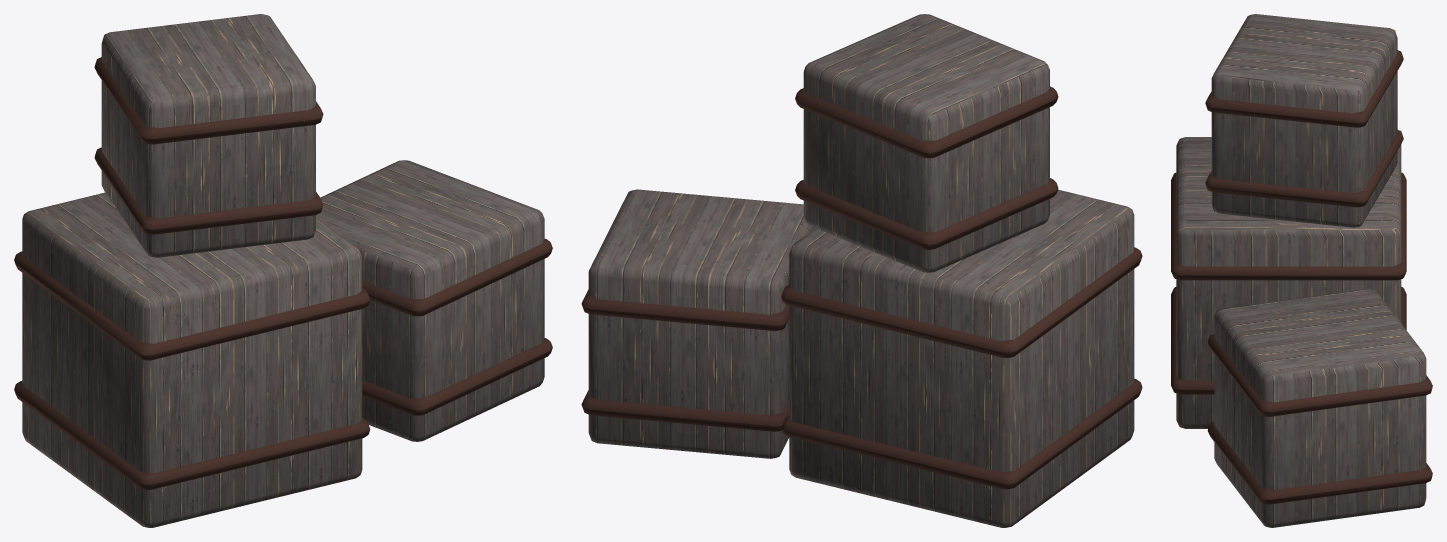
File: crate_stack.gltf
3 views of the same model, side by side, from view 1: azimuth 30°, elevation 25°; view 2: azimuth 150°, elevation 25°; view 3: azimuth 270°, elevation 25° (orthographic). The views are drawn at different scales.
Parts seen in each view (by area): view 1: crate_stack; view 2: crate_stack; view 3: crate_stack.
Boxes of the visible parts, left/top/right/bottom form: crate_stack: left=14, top=14, right=552, bottom=527; crate_stack: left=581, top=14, right=1142, bottom=527; crate_stack: left=1171, top=14, right=1432, bottom=527.
Bounding box in the file's own units: 1.8 × 1.46 × 1.
2 materials, 2 textured.
